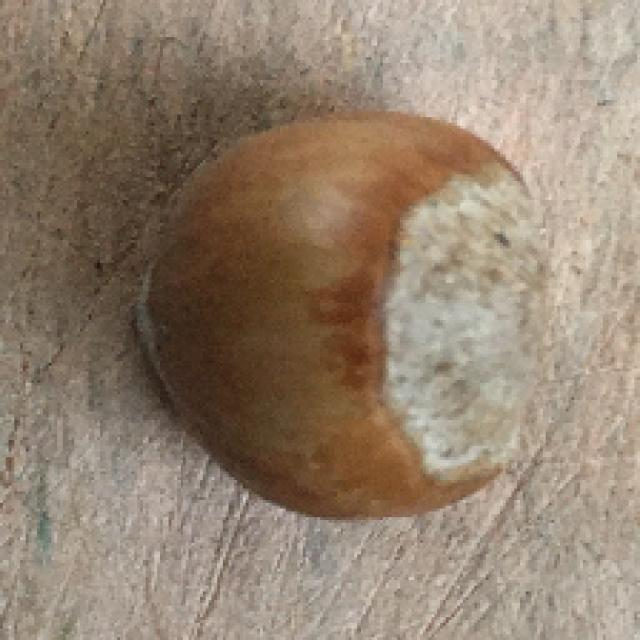damagedHazelnut: (140, 98, 541, 514)
